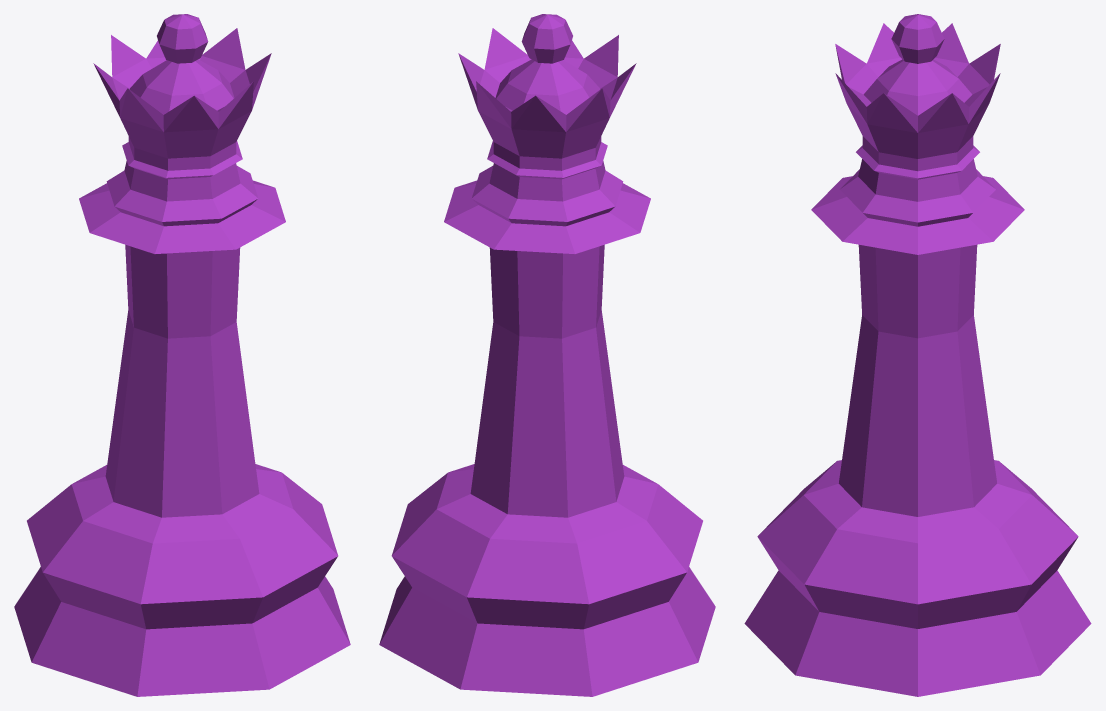
The model's file is ChessQueen.obj.
The picture shows the model from 3 angles, left to right: view 1: azimuth 30°, elevation 25°; view 2: azimuth 150°, elevation 25°; view 3: azimuth 270°, elevation 25°; orthographic projection.
Parts seen in each view (by area): view 1: White_Queen_Cylinder.005; view 2: White_Queen_Cylinder.005; view 3: White_Queen_Cylinder.005.
Part boxes in pixels (x1,y1,x2,y2): White_Queen_Cylinder.005: (14,14,350,696); White_Queen_Cylinder.005: (379,14,715,696); White_Queen_Cylinder.005: (744,14,1091,696).
Size of the model in its own units: 4 by 7.74 by 4.
